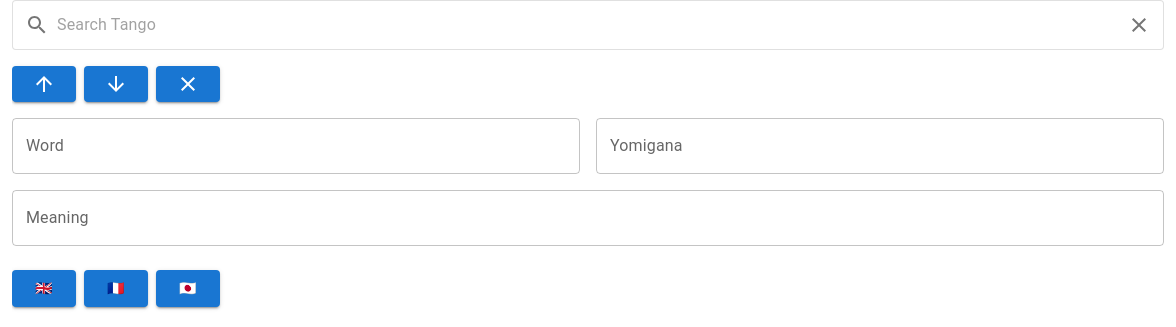
it: split input
Type "ほたるび [蛍火" into the field labelled "Word".
click(296, 146); type("ほたるび [蛍火")  # box x1=12 y1=118 x2=580 y2=174
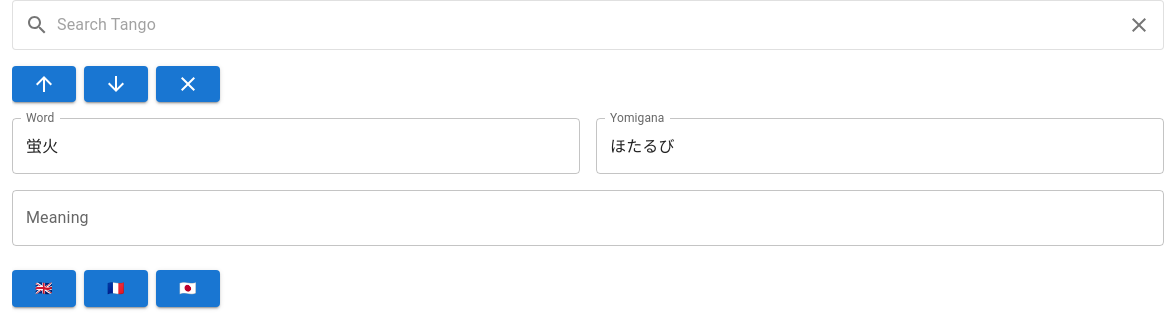
Result: the field labelled "Word" holds "蛍火" at x1=12 y1=118 x2=580 y2=174
Result: the field labelled "Yomigana" holds "ほたるび" at x1=596 y1=118 x2=1164 y2=174
